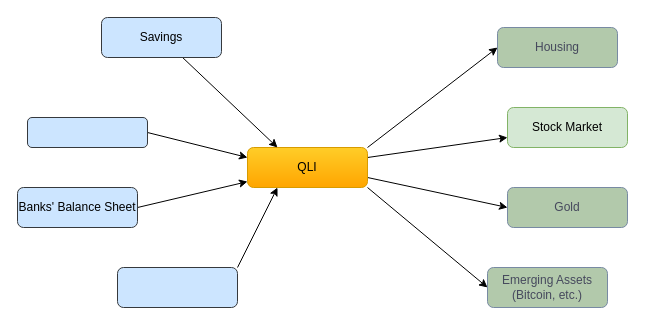
Image size: 645x325. Some labels were removed from this diagram. Each missing label, with the box of its shape:
CPI: (26, 116, 148, 148)
Interest Rate: (116, 266, 238, 308)
